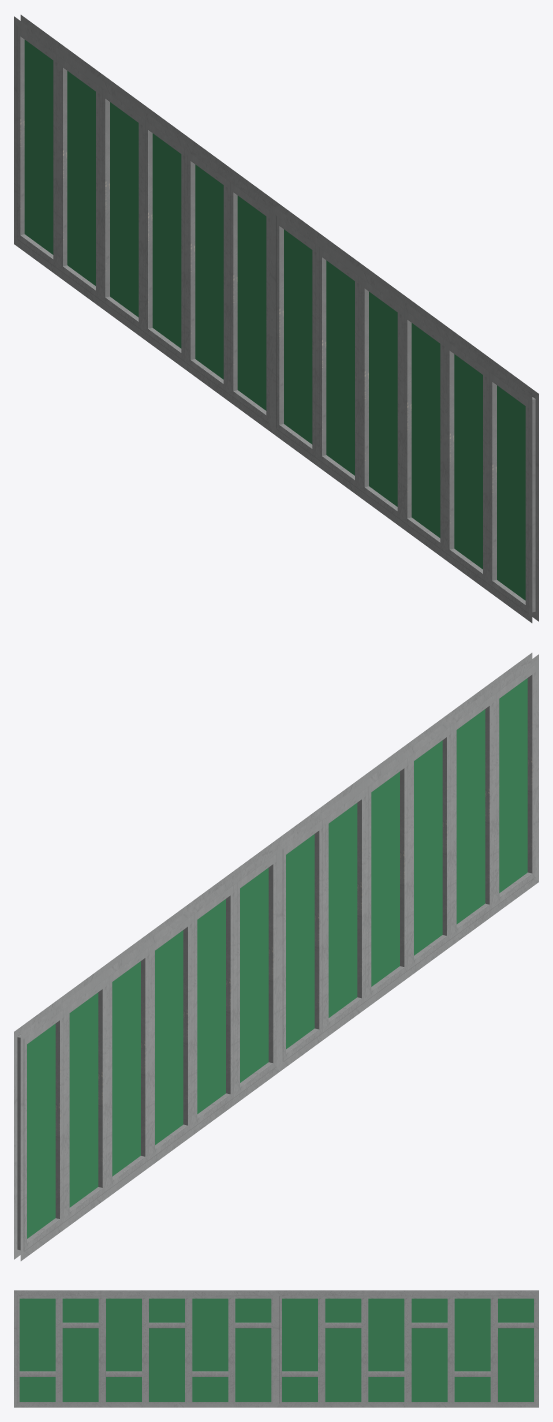
The model's file is WindowBig.fbx.
3 views of the same model, one above another, from view 1: azimuth 30°, elevation 25°; view 2: azimuth 150°, elevation 25°; view 3: azimuth 270°, elevation 25° (orthographic). The views are drawn at different scales.
Parts seen in each view (by area): view 1: Glass, Frame; view 2: Glass, Frame; view 3: Glass, Frame.
Part boxes in pixels (x1=…): Glass: x1=24, y1=40, x2=525, y2=600; Frame: x1=14, y1=15, x2=538, y2=622; Glass: x1=27, y1=678, x2=527, y2=1238; Frame: x1=14, y1=653, x2=538, y2=1260; Glass: x1=19, y1=1298, x2=533, y2=1401; Frame: x1=14, y1=1290, x2=538, y2=1407.
Bounding box in the file's own units: 7.18 × 232 × 955.
Materials: 2 (1 with a texture image).
